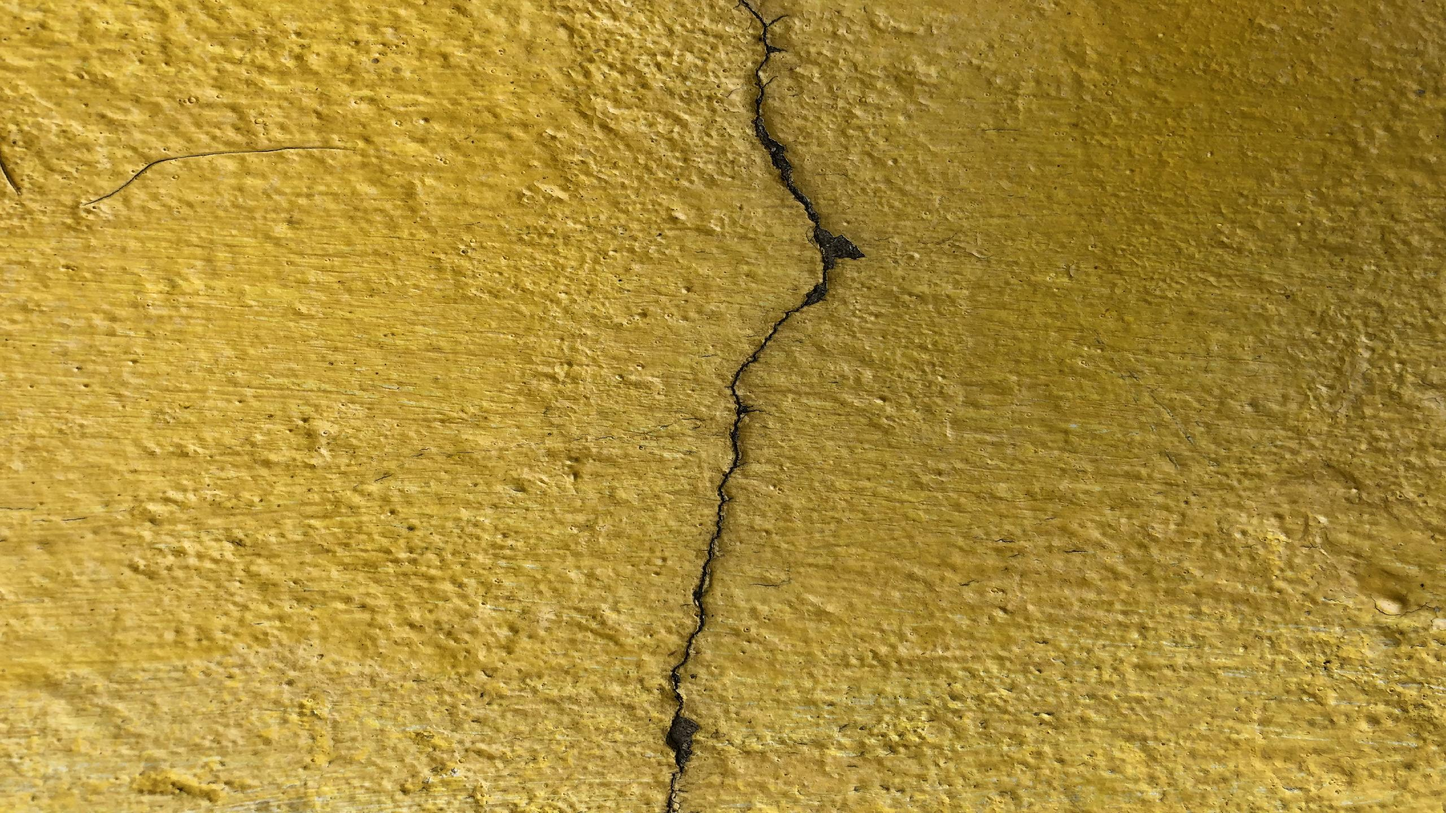crack: (666, 1, 827, 812)
